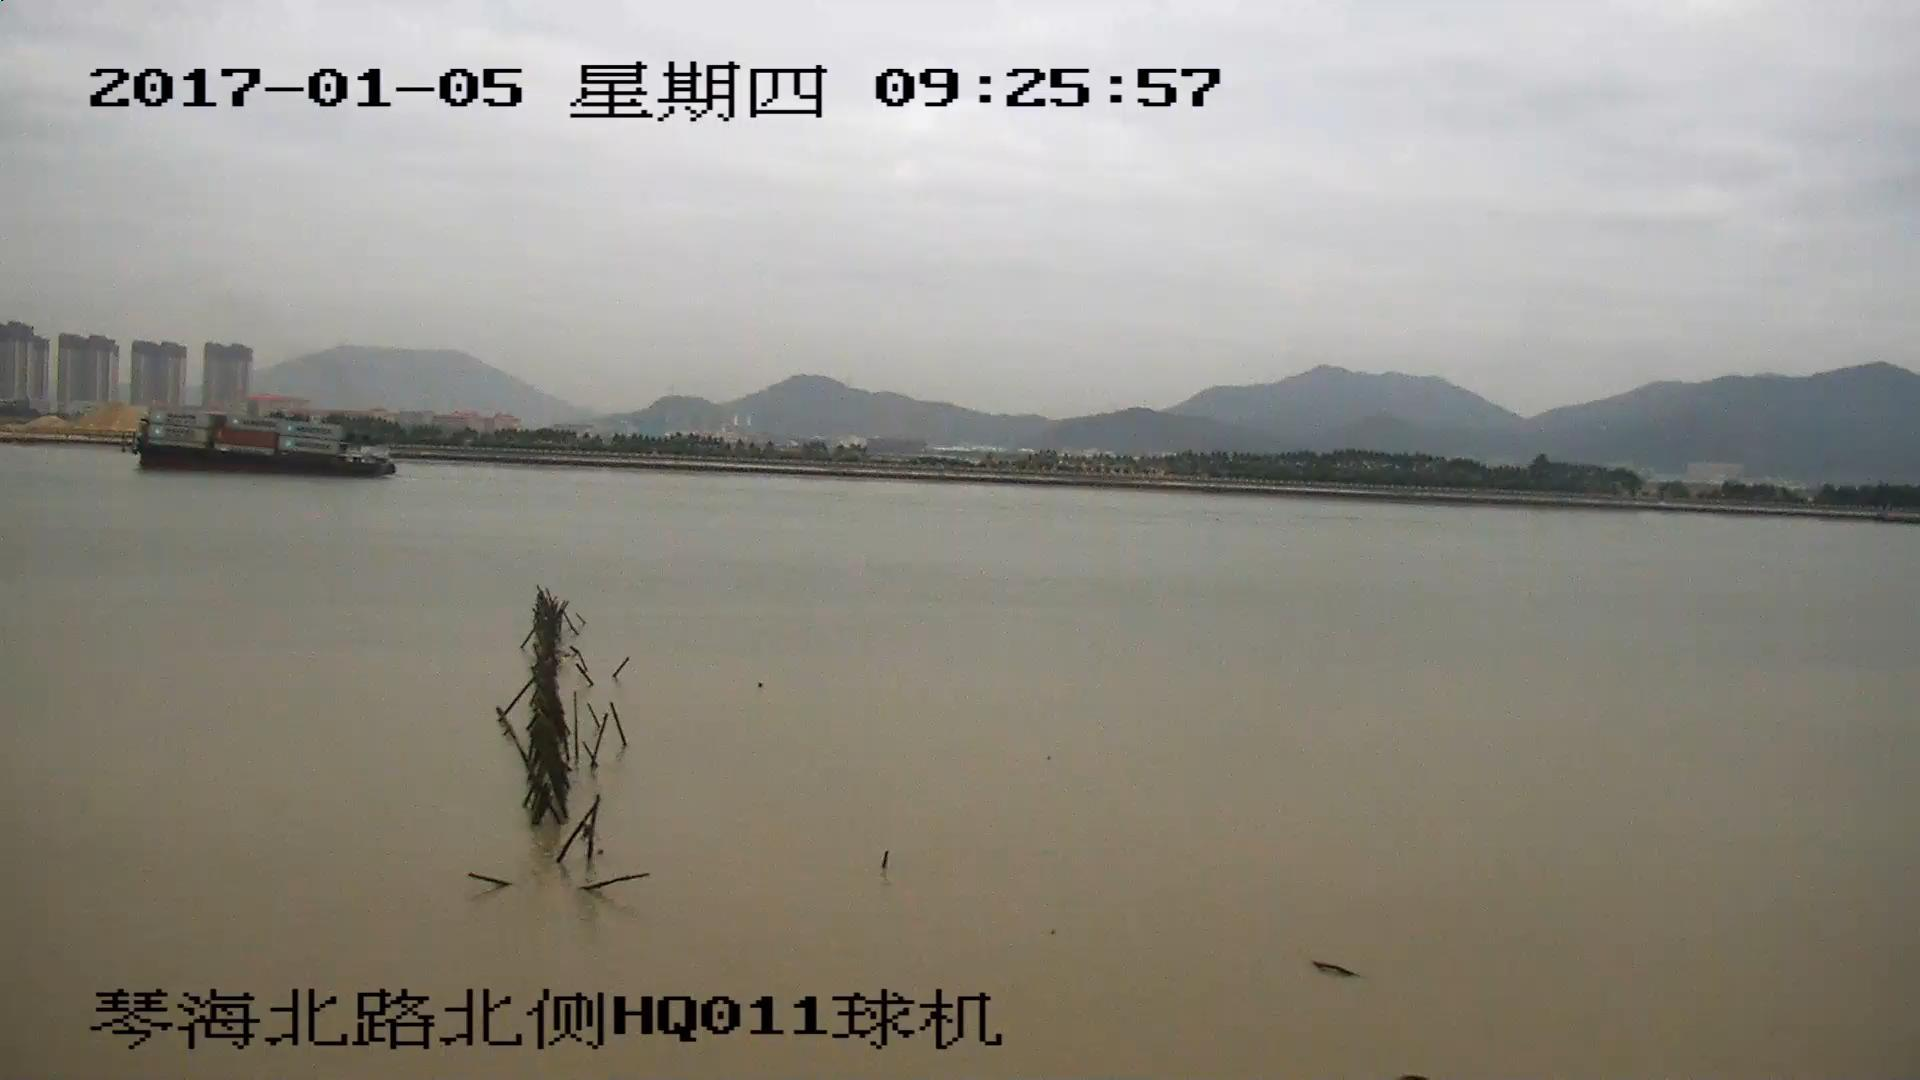Ship: (133, 414, 400, 477)
